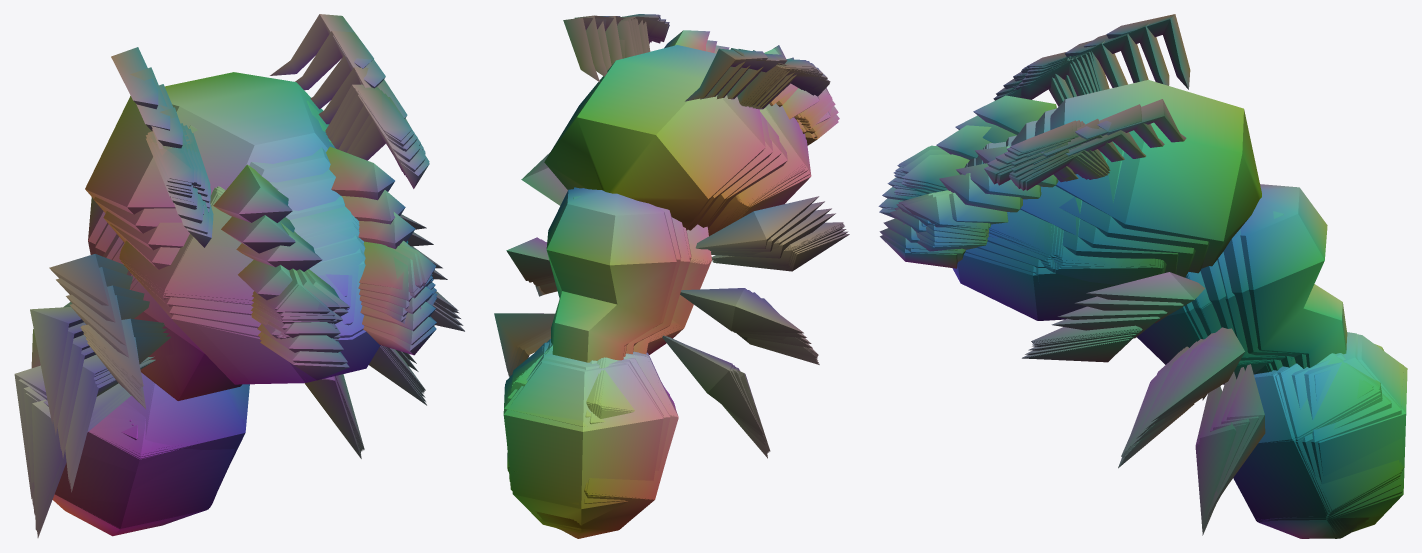
File: Idle_Fight_meshes.fbx
3 views of the same model, side by side, from view 1: azimuth 30°, elevation 25°; view 2: azimuth 150°, elevation 25°; view 3: azimuth 270°, elevation 25° (orthographic). The views are drawn at different scales.
Parts seen in each view (by area): view 1: Idle_Fight_014, Idle_Fight_019, Idle_Fight_015, Idle_Fight_013, Idle_Fight_020, Idle_Fight_008, Idle_Fight_021, Idle_Fight_007, Idle_Fight_016, Idle_Fight_022, Idle_Fight_011, Idle_Fight_012 (+9 smaller); view 2: Idle_Fight_014, Idle_Fight_015, Idle_Fight_013, Idle_Fight_016, Idle_Fight_009, Idle_Fight_008, Idle_Fight_007, Idle_Fight_010, Idle_Fight_020, Idle_Fight_005, Idle_Fight_000, Idle_Fight_022 (+9 smaller); view 3: Idle_Fight_014, Idle_Fight_015, Idle_Fight_013, Idle_Fight_019, Idle_Fight_016, Idle_Fight_018, Idle_Fight_003, Idle_Fight_008, Idle_Fight_030, Idle_Fight_000, Idle_Fight_009, Idle_Fight_011 (+14 smaller).
Part boxes in pixels (box(x1,y1,x2,y2)): Idle_Fight_014: box(14, 14, 426, 498); Idle_Fight_019: box(35, 120, 464, 537); Idle_Fight_015: box(18, 31, 433, 506); Idle_Fight_013: box(23, 55, 442, 514); Idle_Fight_020: box(37, 114, 464, 537); Idle_Fight_008: box(32, 115, 456, 529); Idle_Fight_021: box(127, 104, 435, 429); Idle_Fight_007: box(32, 84, 431, 475); Idle_Fight_016: box(25, 67, 447, 519); Idle_Fight_022: box(37, 95, 460, 533); Idle_Fight_011: box(53, 123, 432, 531); Idle_Fight_012: box(52, 125, 433, 536); Idle_Fight_014: box(494, 16, 819, 533); Idle_Fight_015: box(504, 15, 824, 504); Idle_Fight_013: box(509, 21, 831, 531); Idle_Fight_016: box(507, 16, 835, 481); Idle_Fight_009: box(539, 39, 828, 536); Idle_Fight_008: box(536, 20, 842, 523); Idle_Fight_007: box(513, 19, 841, 521); Idle_Fight_010: box(541, 59, 799, 537); Idle_Fight_020: box(518, 21, 849, 457); Idle_Fight_005: box(509, 14, 843, 467); Idle_Fight_000: box(516, 42, 844, 453); Idle_Fight_022: box(523, 18, 846, 455); Idle_Fight_014: box(973, 14, 1407, 538); Idle_Fight_015: box(955, 22, 1403, 537); Idle_Fight_013: box(936, 34, 1337, 538); Idle_Fight_019: box(879, 77, 1373, 535); Idle_Fight_016: box(949, 40, 1401, 536); Idle_Fight_018: box(884, 67, 1349, 533); Idle_Fight_003: box(894, 56, 1401, 531); Idle_Fight_008: box(897, 52, 1356, 531); Idle_Fight_030: box(902, 56, 1342, 538); Idle_Fight_000: box(917, 58, 1354, 536); Idle_Fight_009: box(899, 52, 1353, 533); Idle_Fight_011: box(902, 51, 1352, 536).
Size of the model in its own units: 176 by 266 by 265.
